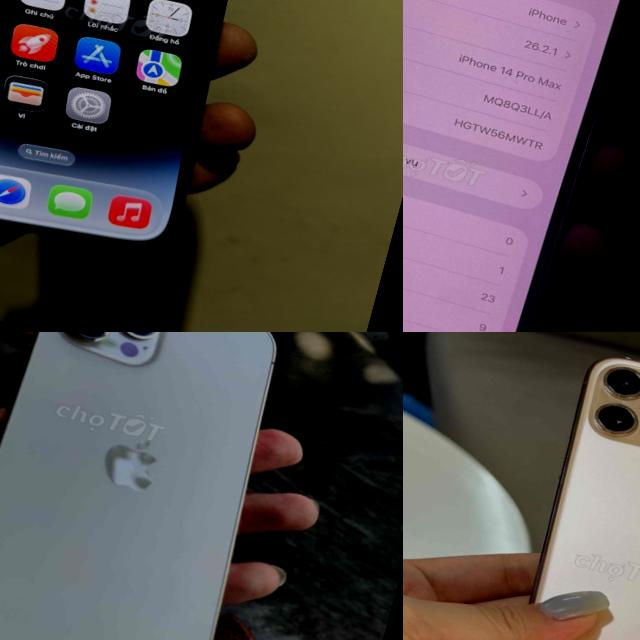gen_11: (472, 332, 640, 640)
gen_12_13: (0, 332, 329, 640)
gen_14: (0, 0, 302, 284), (403, 0, 640, 332)
